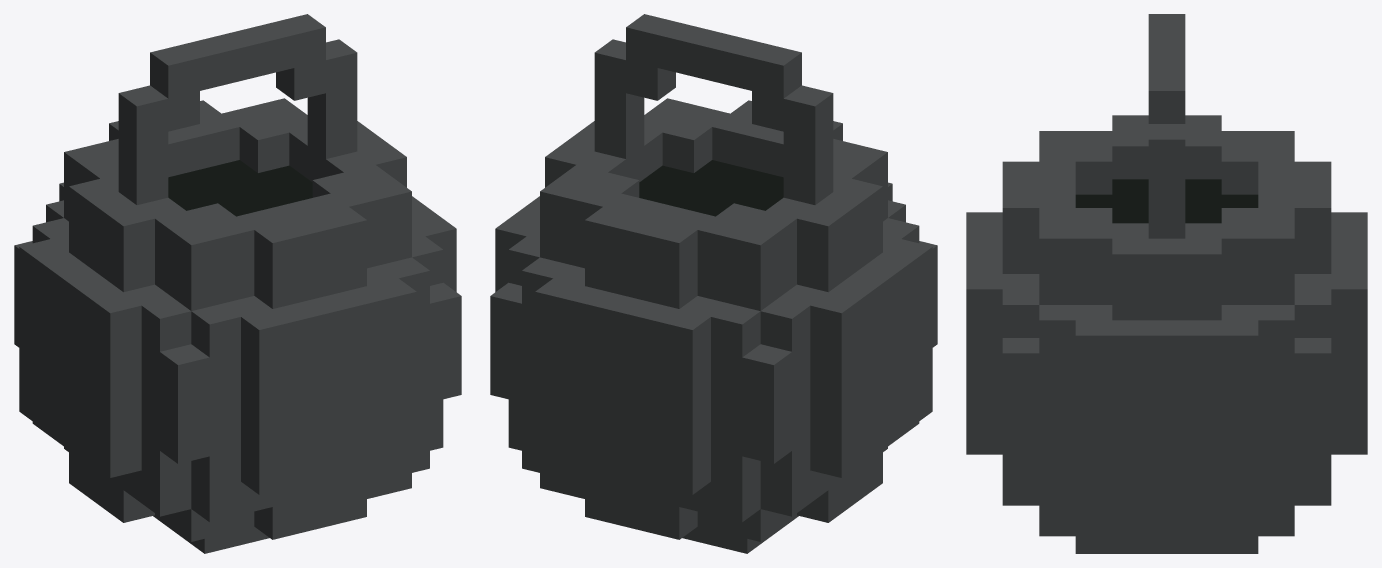
The model's file is Kitchen_Pot_00.fbx.
3 renders of one model, left to right at view 1: azimuth 30°, elevation 25°; view 2: azimuth 150°, elevation 25°; view 3: azimuth 270°, elevation 25°, orthographic.
Visible parts, largest first — view 1: Kitchen_Pot_00; view 2: Kitchen_Pot_00; view 3: Kitchen_Pot_00.
Part boxes in pixels (<box>): Kitchen_Pot_00: <box>14,14,461,553</box>; Kitchen_Pot_00: <box>490,14,937,553</box>; Kitchen_Pot_00: <box>966,14,1367,553</box>.
Bounding box in the file's own units: 55 × 70 × 55.
